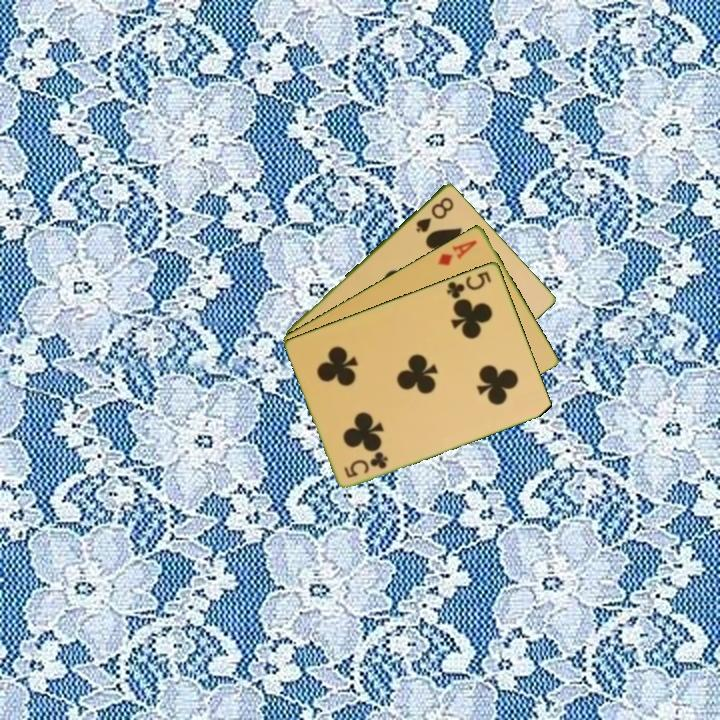5c: (443, 267, 494, 301), (341, 448, 391, 480)
8s: (412, 193, 457, 235)
Ad: (434, 236, 480, 268)
